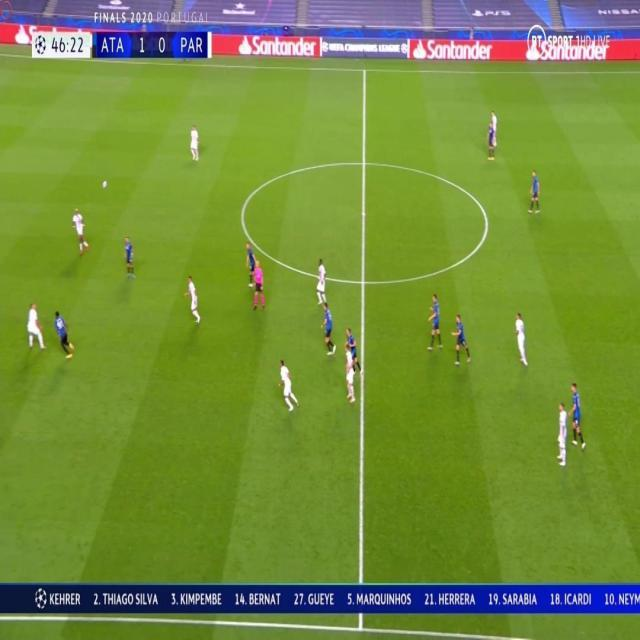ball: (102, 178, 108, 188)
player: (567, 380, 586, 452), (276, 358, 299, 410), (426, 290, 444, 352), (340, 346, 359, 404), (451, 312, 471, 366), (52, 311, 75, 357), (26, 300, 46, 351), (512, 309, 529, 368), (554, 397, 568, 467), (70, 207, 89, 256), (314, 255, 330, 312), (345, 328, 364, 376), (185, 274, 201, 326), (321, 307, 337, 356), (121, 236, 136, 281), (527, 167, 541, 215), (246, 244, 256, 295), (188, 121, 200, 162), (489, 109, 500, 147), (486, 122, 496, 160)
referee: (252, 260, 266, 312)
